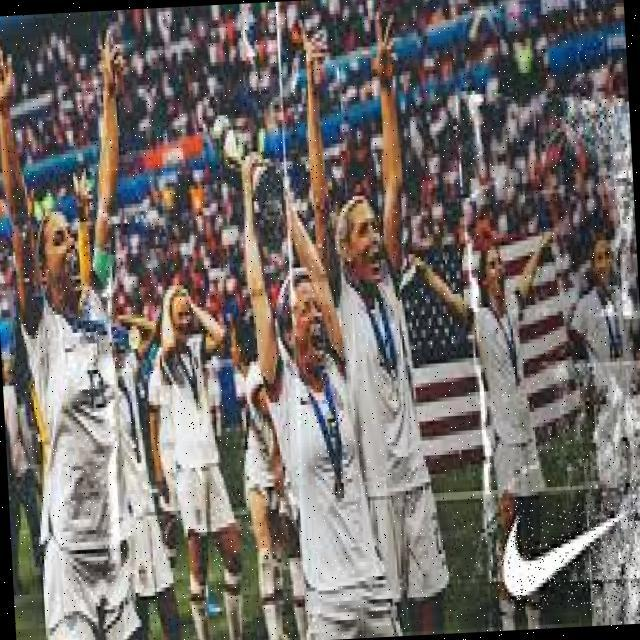Nike: (498, 499, 640, 610)
